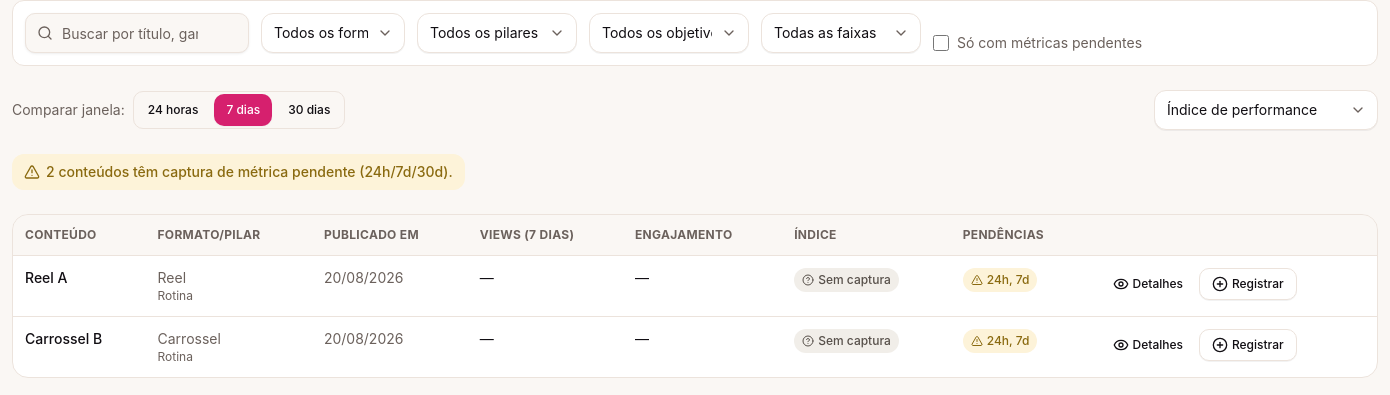
MetricasWorkspace › filtra por formato
Select "Carrossel" in the dropdown named "Filtrar por formato" at coordinates (333, 33), box [261, 13, 405, 53]
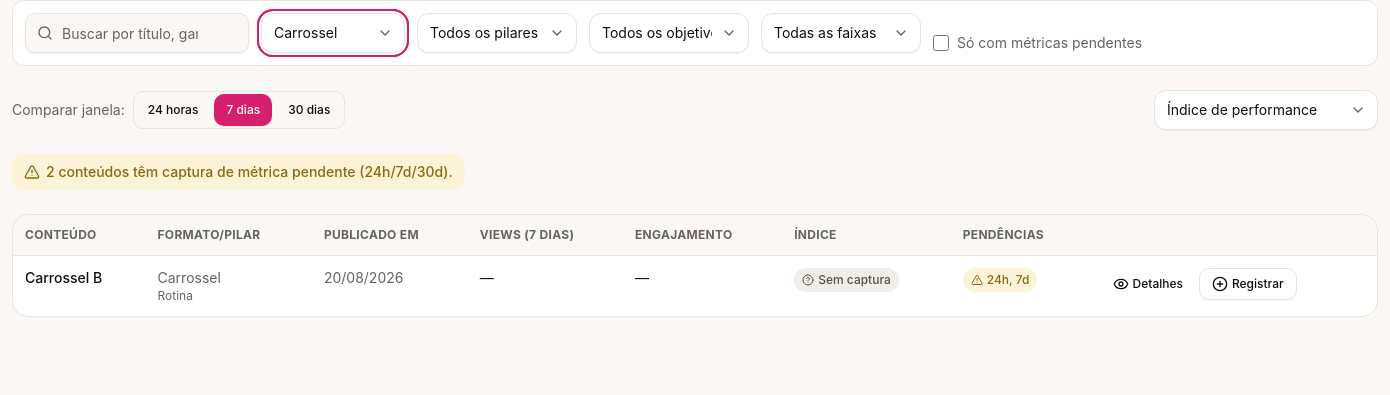
expect the link "Carrossel B" is shown: met, box [25, 269, 102, 286]
expect the link "Reel A" is gone: met
